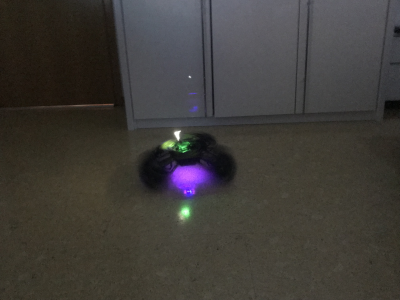remote control car: (130, 126, 240, 193)
